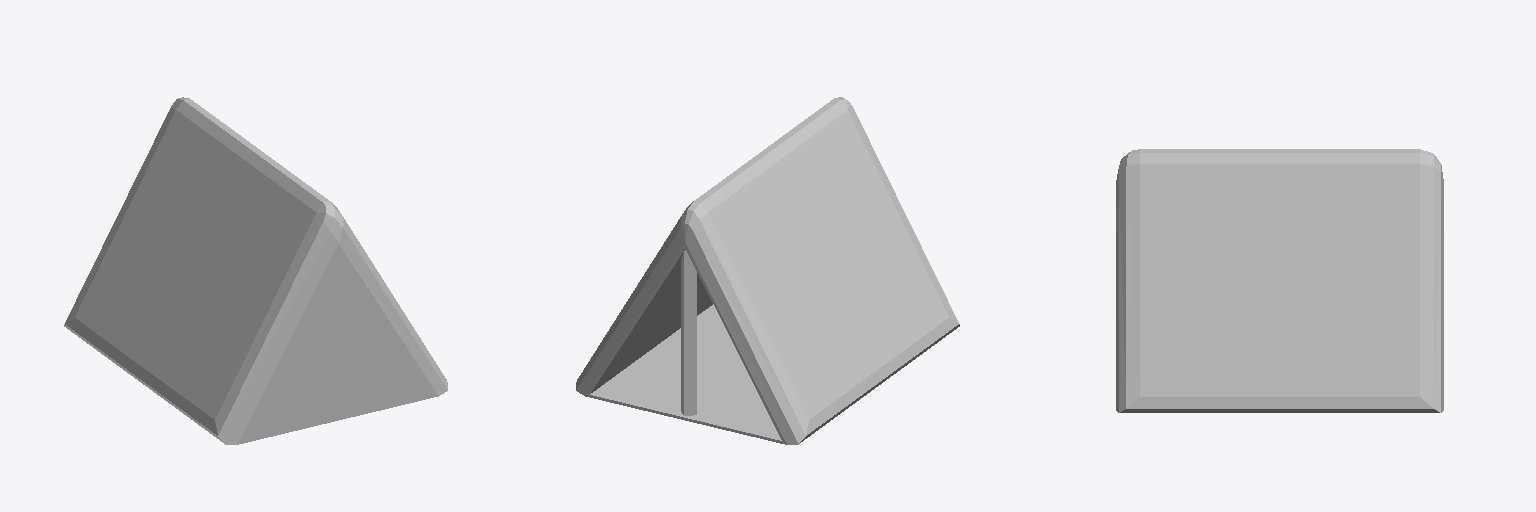
Rendered from tent02.obj.
The picture shows the model from 3 angles: view 1: azimuth 30°, elevation 25°; view 2: azimuth 150°, elevation 25°; view 3: azimuth 270°, elevation 25°; orthographic projection.
Parts seen in each view (by area): view 1: Tent_#2_Mesh.004; view 2: Tent_#2_Mesh.004; view 3: Tent_#2_Mesh.004.
Boxes of the visible parts, box(x1,y1,x2,y2) form: Tent_#2_Mesh.004: box(64, 97, 447, 444); Tent_#2_Mesh.004: box(576, 97, 959, 444); Tent_#2_Mesh.004: box(1116, 149, 1443, 412).
Bounding box in the file's own units: 1.59 × 1.39 × 1.97.